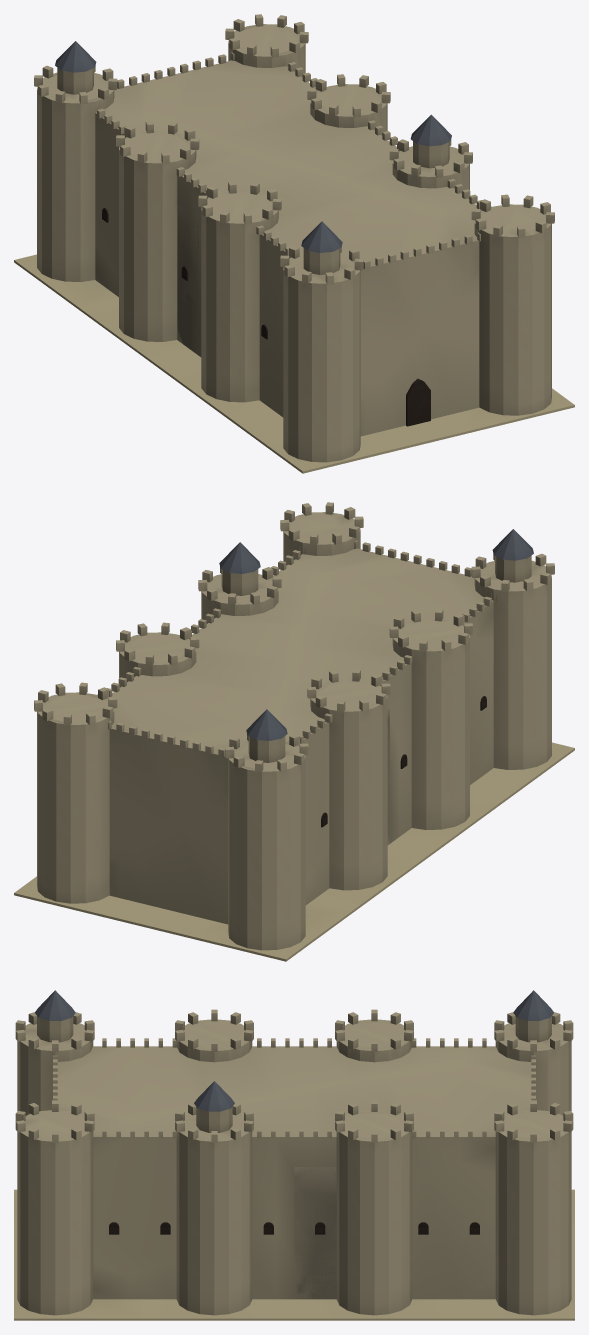
The model's file is bastille.glb.
3 renders of one model, top to bottom at view 1: azimuth 30°, elevation 25°; view 2: azimuth 150°, elevation 25°; view 3: azimuth 270°, elevation 25°, orthographic. The views are drawn at different scales.
Visible parts, largest first — view 1: p1_towers, p0_walls; view 2: p1_towers, p0_walls; view 3: p0_walls, p1_towers.
Boxes of the visible parts, x1,y1,x2,y2 form: p1_towers: (34, 14, 554, 462); p0_walls: (14, 52, 574, 473); p1_towers: (34, 502, 554, 950); p0_walls: (14, 540, 574, 961); p0_walls: (14, 1038, 574, 1320); p1_towers: (15, 990, 573, 1315).
Bounding box in the file's own units: 37 × 29.53 × 68.
